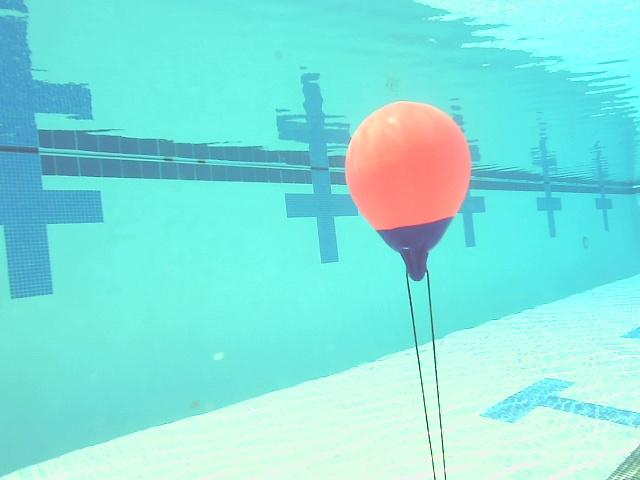buoy: (345, 101, 471, 282)
